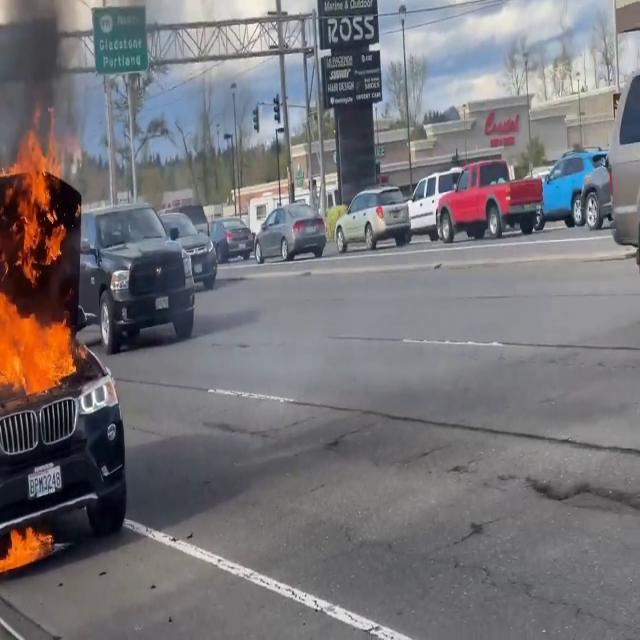Fire: (0, 122, 76, 408), (1, 128, 67, 288), (0, 284, 80, 402), (0, 517, 54, 578)
Smoke: (0, 0, 90, 155)
